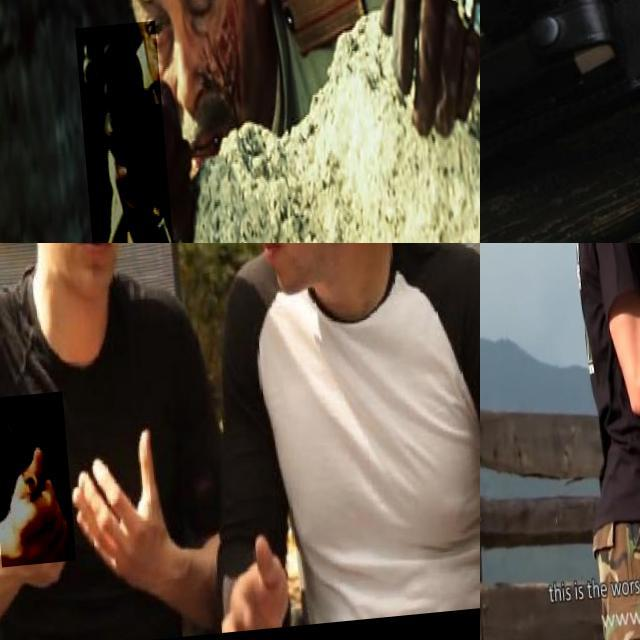-: (0, 394, 66, 568)
gun-knife-thesis - v11 Yolov5 augmented: (69, 24, 164, 243)
